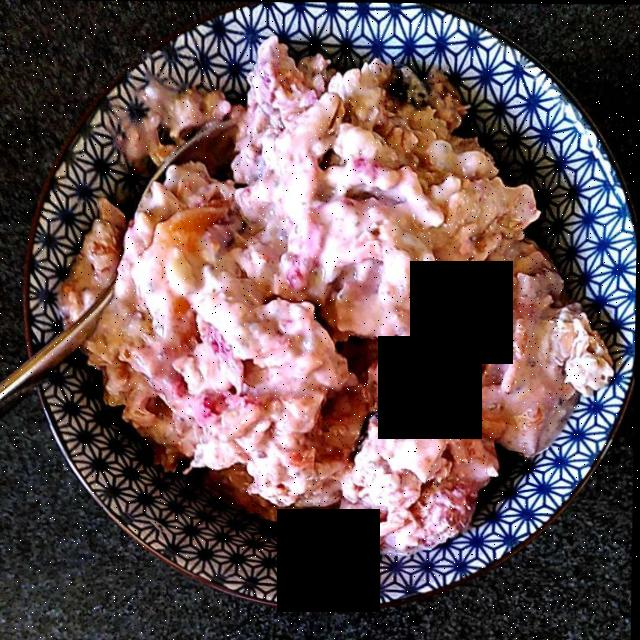birchermuesli-prepared-no-sugar-added: (78, 56, 608, 546)
